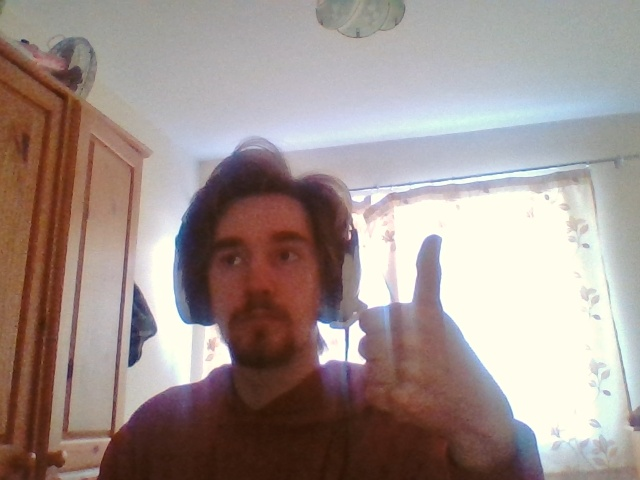good: (360, 234, 513, 467)
